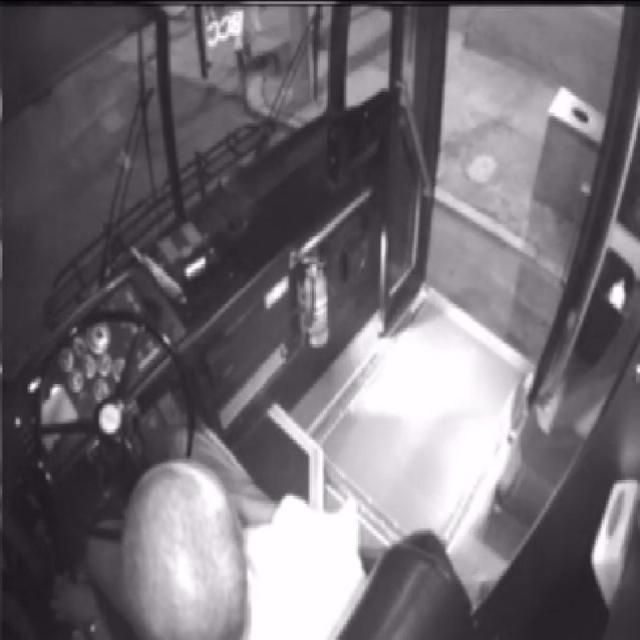bus-door: (390, 8, 638, 412)
